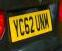2: (28, 16, 35, 33)
6: (23, 17, 30, 34)
C: (19, 17, 25, 36)
Y: (12, 19, 19, 38)
